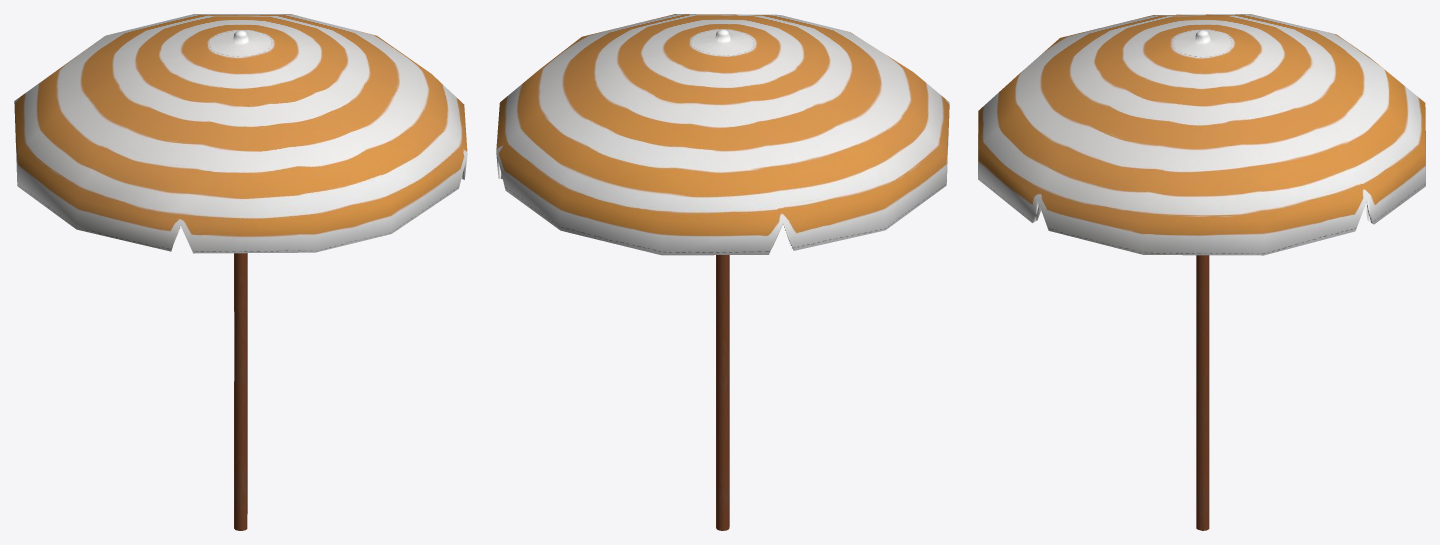
File: umbrella_beach2.glb
The picture shows the model from 3 angles, left to right: view 1: azimuth 30°, elevation 25°; view 2: azimuth 150°, elevation 25°; view 3: azimuth 270°, elevation 25°; orthographic projection.
Visible parts, largest first — view 1: UmbrellaLPUV_w; view 2: UmbrellaLPUV_w; view 3: UmbrellaLPUV_w.
Boxes of the visible parts, x1,y1,x2,y2 form: UmbrellaLPUV_w: (14, 14, 467, 530); UmbrellaLPUV_w: (496, 14, 949, 530); UmbrellaLPUV_w: (978, 14, 1425, 530).
Bounding box in the file's own units: 1.96 × 2.4 × 1.96.
Materials: 1 (1 with a texture image).
